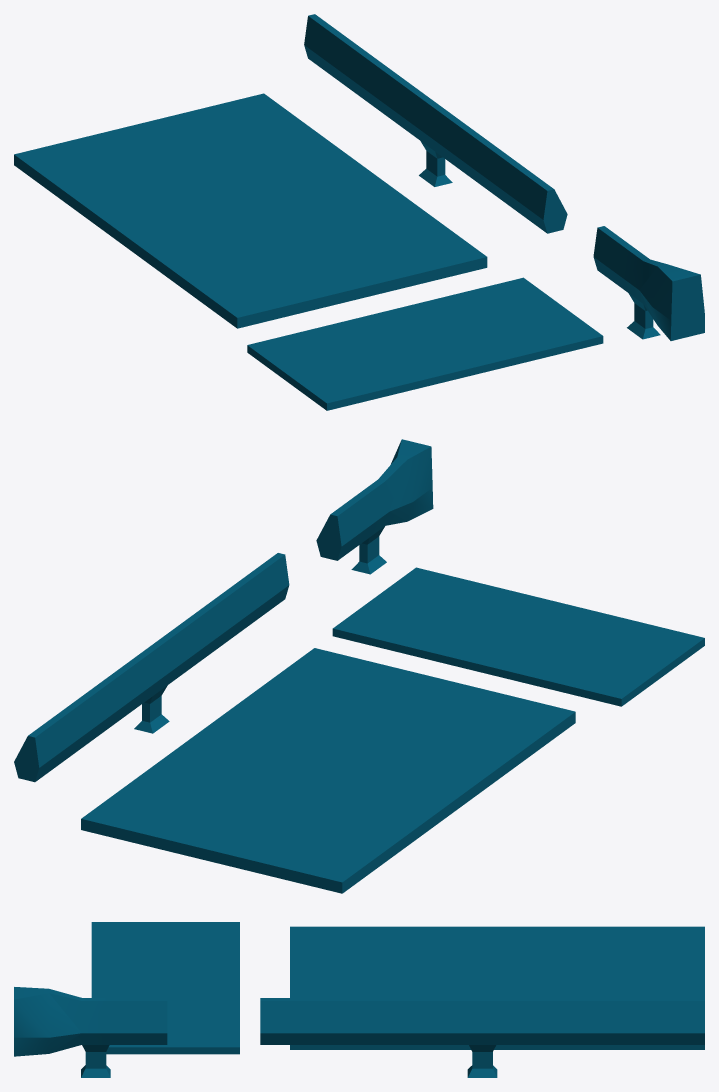
The model's file is MESH_RoadsidePACK.fbx.
The picture shows the model from 3 angles, top to bottom: view 1: azimuth 30°, elevation 25°; view 2: azimuth 150°, elevation 25°; view 3: azimuth 270°, elevation 25°; orthographic projection. The views are drawn at different scales.
Visible parts, largest first — view 1: Highway_Sign, Road_Sidewalk, Road_barrier, Road_barrierEnd; view 2: Highway_Sign, Road_Sidewalk, Road_barrier, Road_barrierEnd; view 3: Highway_Sign, Road_barrier, Road_Sidewalk, Road_barrierEnd.
Part boxes in pixels (x1,y1,x2,y2): Highway_Sign: (14,93,487,328); Road_Sidewalk: (247,277,603,410); Road_barrier: (304,14,567,233); Road_barrierEnd: (593,226,704,340); Highway_Sign: (81,648,575,893); Road_Sidewalk: (332,567,704,706); Road_barrier: (14,553,289,782); Road_barrierEnd: (316,439,433,574); Highway_Sign: (290,926,704,1049); Road_barrier: (260,998,704,1077); Road_Sidewalk: (91,922,239,1054); Road_barrierEnd: (14,987,167,1077).
Size of the model in its own units: 4.86 by 1.19 by 9.32.
